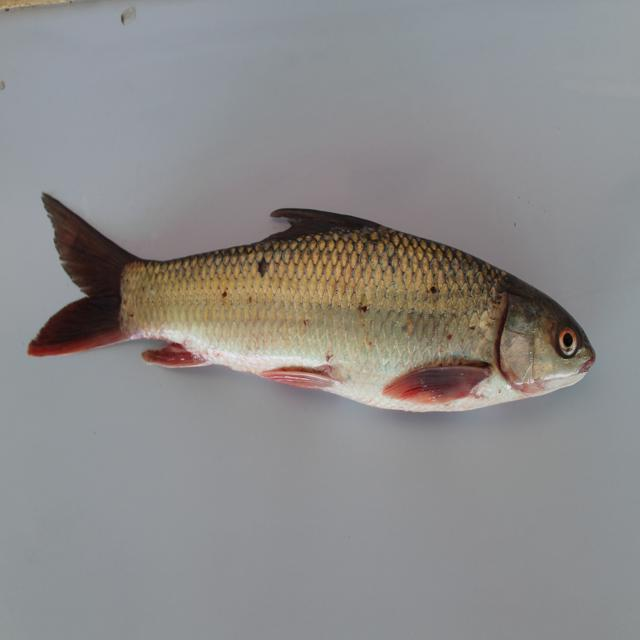Mori: (30, 185, 615, 439)
